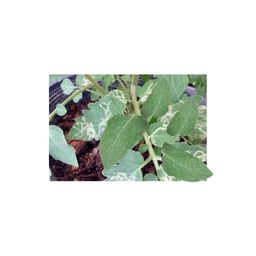liriomyza: (72, 98, 111, 141), (150, 102, 178, 145), (195, 102, 208, 136), (108, 171, 138, 182), (138, 81, 153, 103), (186, 149, 207, 163), (111, 88, 128, 103), (158, 168, 175, 182)
